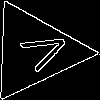V: (9, 26, 73, 77)
